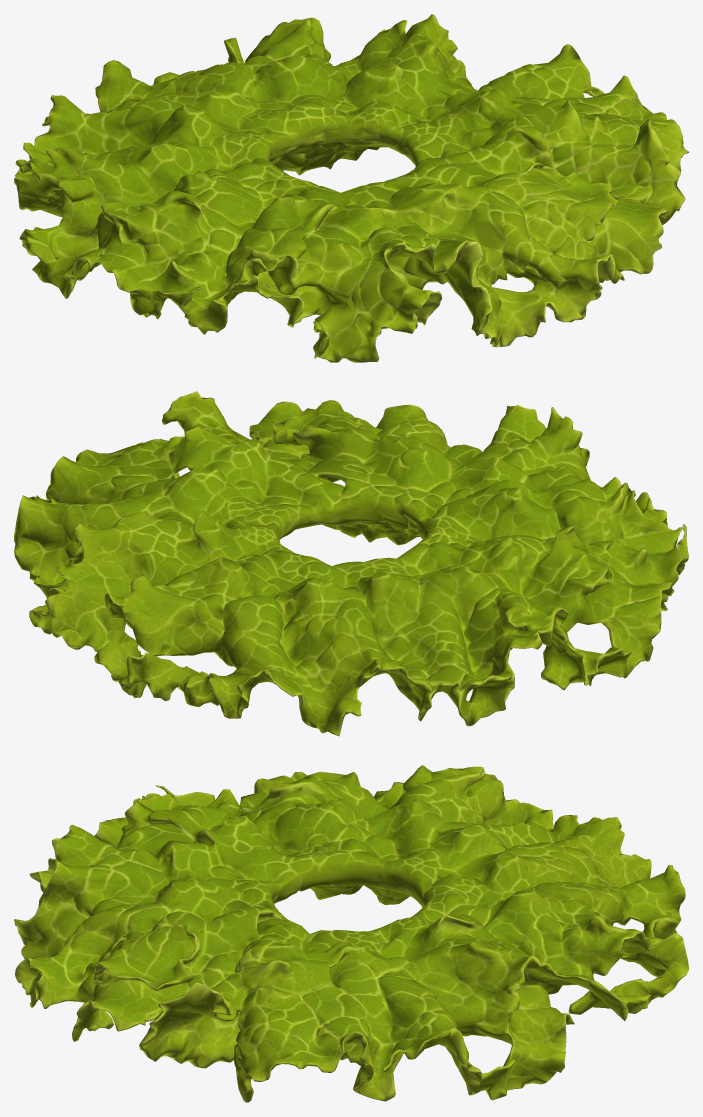
File: lettuce.glb
3 renders of one model, top to bottom at view 1: azimuth 30°, elevation 25°; view 2: azimuth 150°, elevation 25°; view 3: azimuth 270°, elevation 25°, orthographic.
Size of the model in its own units: 1.9 by 0.3663 by 1.84.
Materials: 1 (1 with a texture image).
